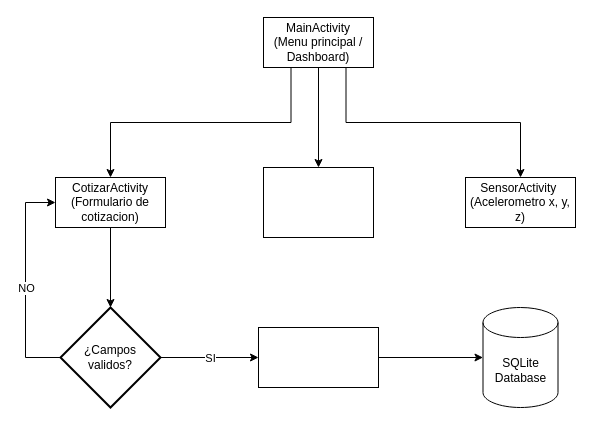
This 593x426 diagram has some shape labels left out. The shapes that lost their labels are listed below. From the top down, each one's centre as x and y in pixels, then its label:
At (318,202): "MapActivity (Geolocalizacion GPS / FusedLocation)".
At (318,357): "ConfirmacionActivity (resumen de cita)".
